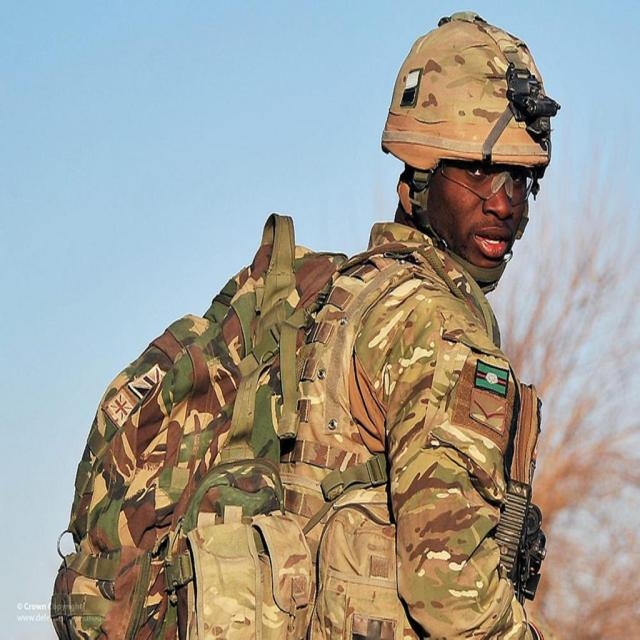Face: (441, 148, 549, 296)
